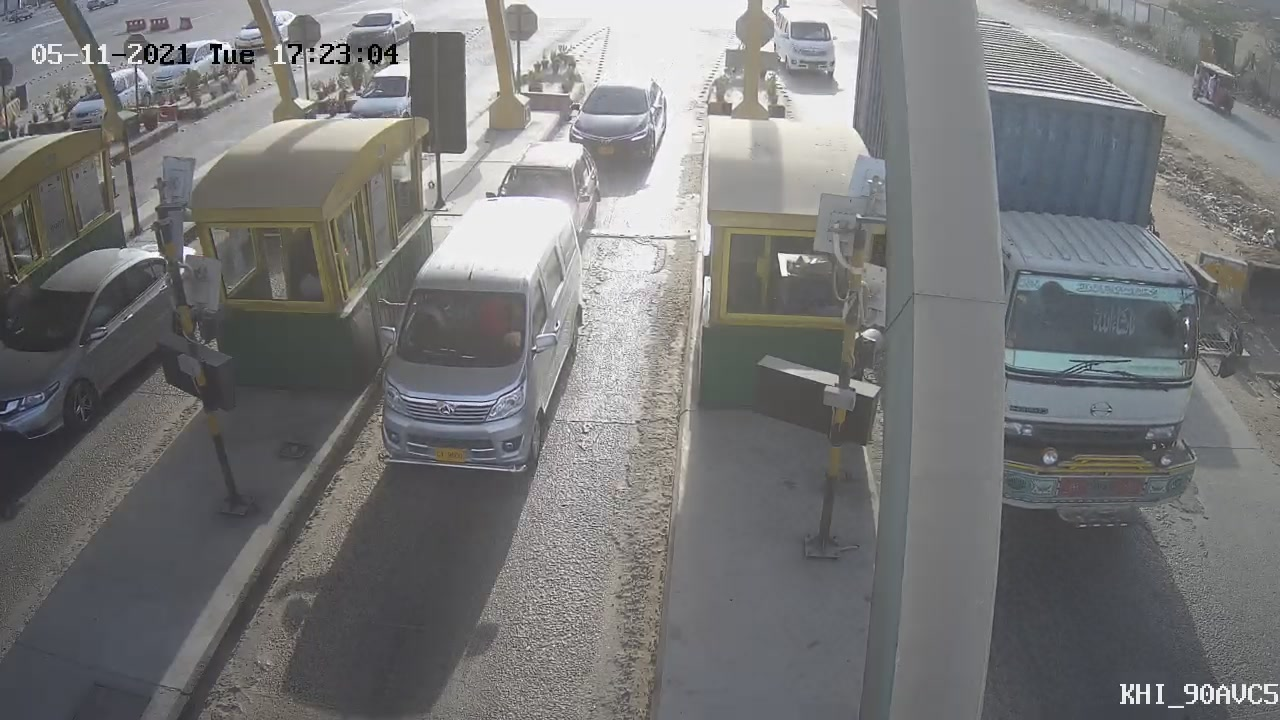F1: (357, 195, 592, 485), (548, 59, 679, 182)
